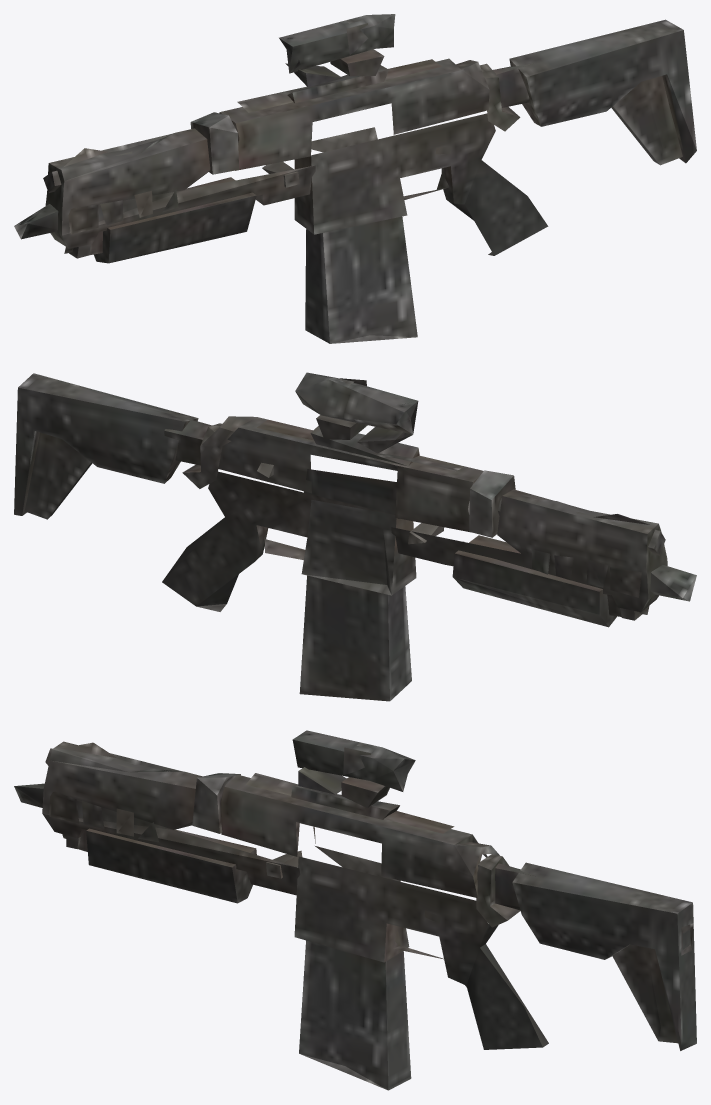
The model's file is prop.rifle_guard.glb.
The picture shows the model from 3 angles, top to bottom: view 1: azimuth 30°, elevation 25°; view 2: azimuth 150°, elevation 25°; view 3: azimuth 330°, elevation 25°; orthographic projection. The views are drawn at different scales.
Parts seen in each view (by area): view 1: body; view 2: body; view 3: body.
Boxes of the visible parts, x1=… form: body: x1=14, y1=14, x2=696, y2=343; body: x1=14, y1=372, x2=696, y2=701; body: x1=14, y1=730, x2=696, y2=1090.
Bounding box in the file's own units: 0.55 × 0.2515 × 0.0469.
1 material, 1 textured.
